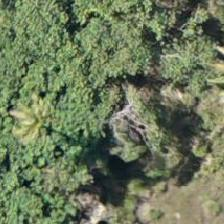coconut_tree: (0, 85, 79, 175)
